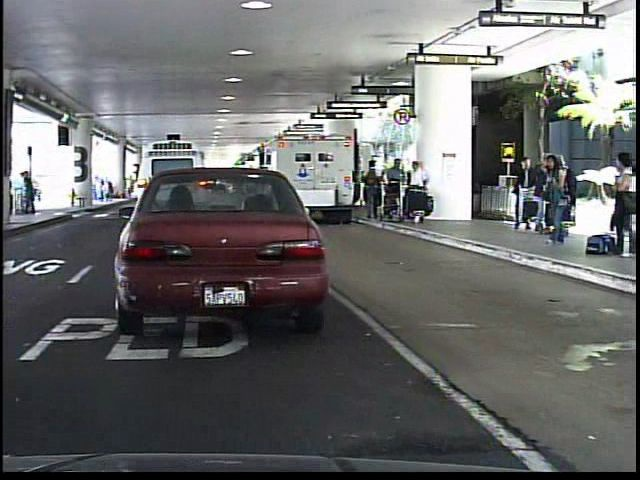person: (605, 146, 635, 264)
